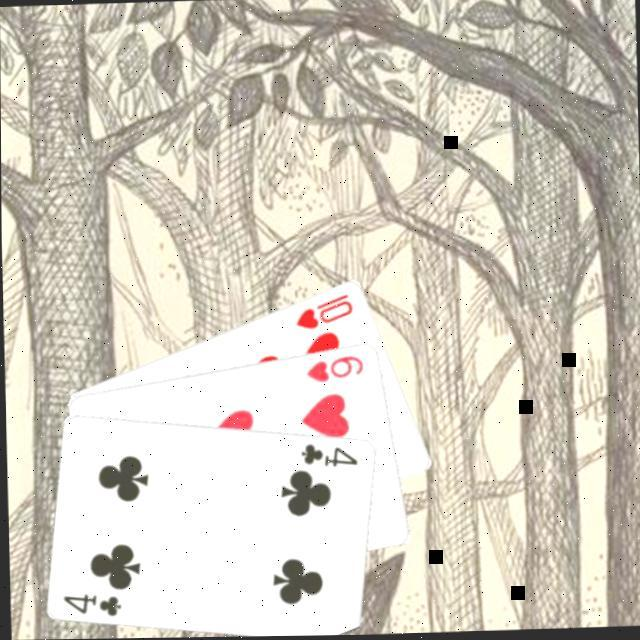10H: (289, 288, 354, 330)
4C: (295, 437, 360, 469), (57, 587, 122, 619)
6H: (300, 350, 365, 384)
